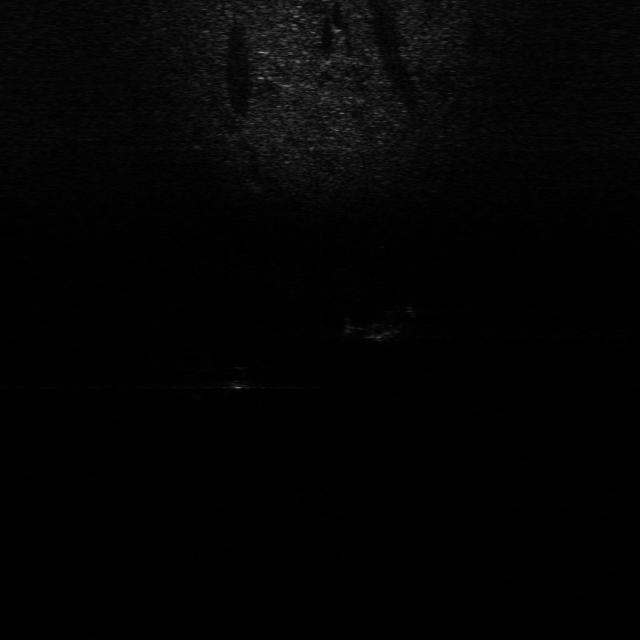ball: (213, 360, 259, 395)
human body: (338, 304, 421, 344)
